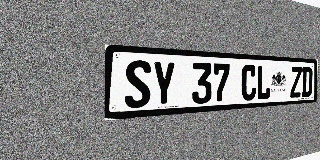3: (192, 62, 212, 104)
7: (212, 63, 230, 103)
C: (241, 64, 257, 101)
D: (301, 67, 313, 97)
L: (256, 65, 271, 100)
S: (125, 60, 151, 109)
Y: (152, 61, 175, 107)
Z: (290, 67, 302, 98)
